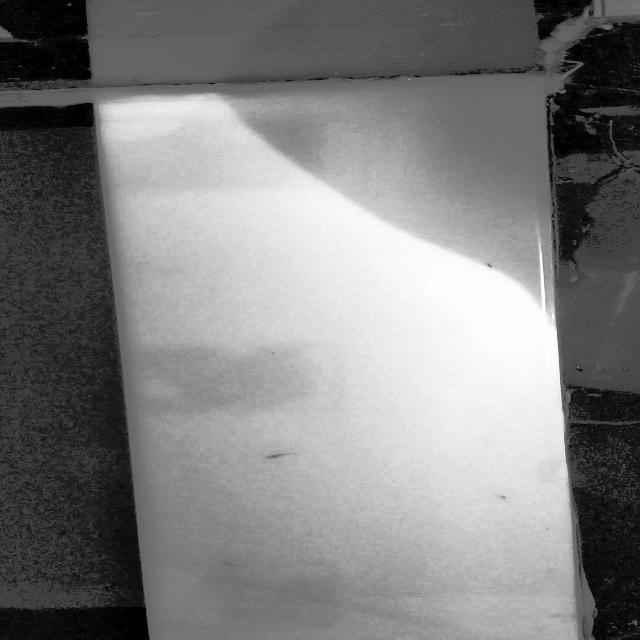shrimp: (260, 448, 302, 461), (480, 256, 501, 272), (494, 492, 515, 506), (214, 564, 246, 572)
